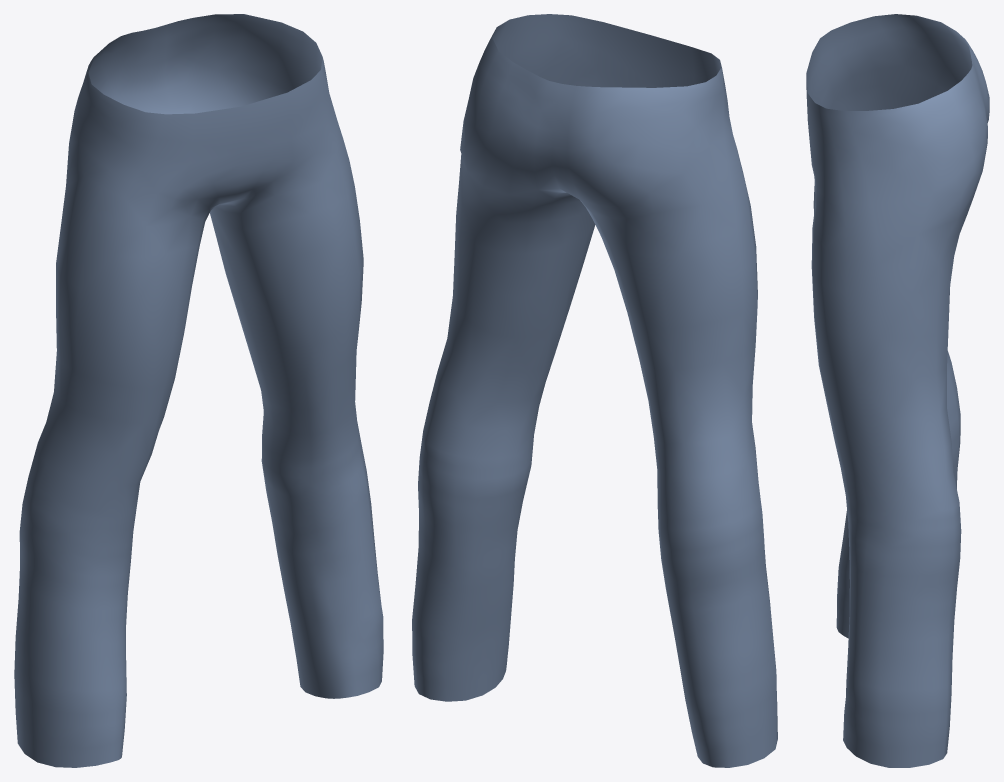
Rendered from trousers_male.glb.
3 views of the same model, side by side, from view 1: azimuth 30°, elevation 25°; view 2: azimuth 150°, elevation 25°; view 3: azimuth 270°, elevation 25° (orthographic). The views are drawn at different scales.
Visible parts, largest first — view 1: jeans; view 2: jeans; view 3: jeans.
Boxes of the visible parts, box(x1,y1,x2,y2) form: jeans: box(14, 14, 383, 767); jeans: box(412, 14, 777, 767); jeans: box(806, 14, 989, 767).
Bounding box in the file's own units: 0.5042 × 0.9302 × 0.2439.
